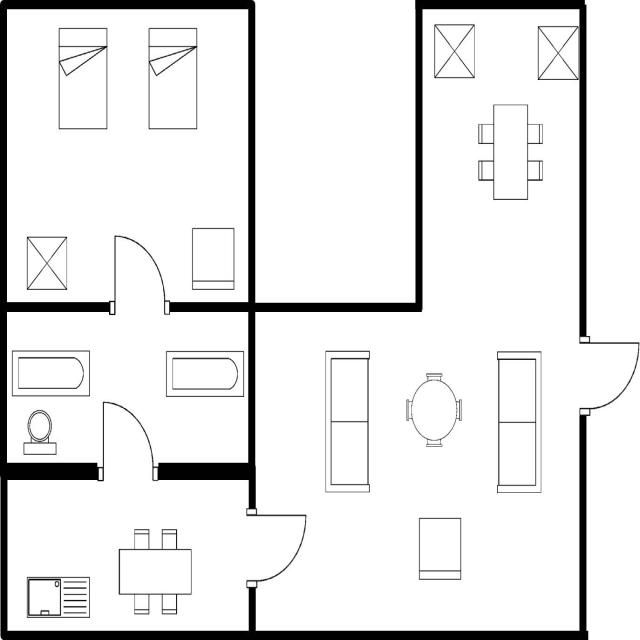bed: (56, 22, 110, 134), (144, 24, 199, 133)
coffee_table: (431, 20, 478, 80), (24, 233, 70, 293), (535, 22, 580, 83)
dining_table: (114, 524, 194, 617), (475, 99, 546, 203)
large_sink: (17, 405, 63, 459)
large_sofa: (322, 344, 374, 496), (494, 346, 545, 498)
round_table: (402, 367, 466, 450)
sink: (23, 572, 92, 621)
small_sofa: (415, 513, 464, 585), (189, 225, 238, 293)
tub: (162, 345, 246, 402), (8, 346, 92, 400)
